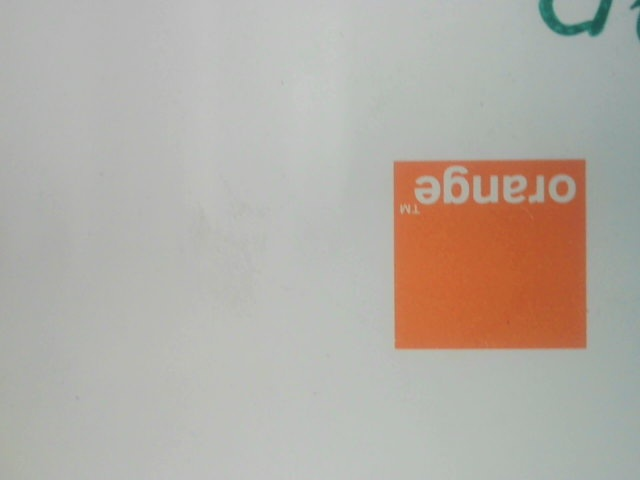AR_Orange: (388, 156, 593, 355)
